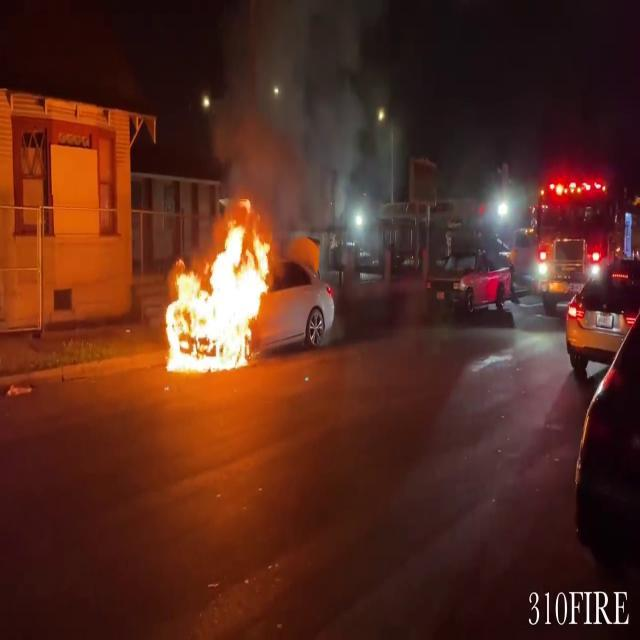Fire: (158, 204, 278, 376)
Smoke: (202, 0, 386, 221)
